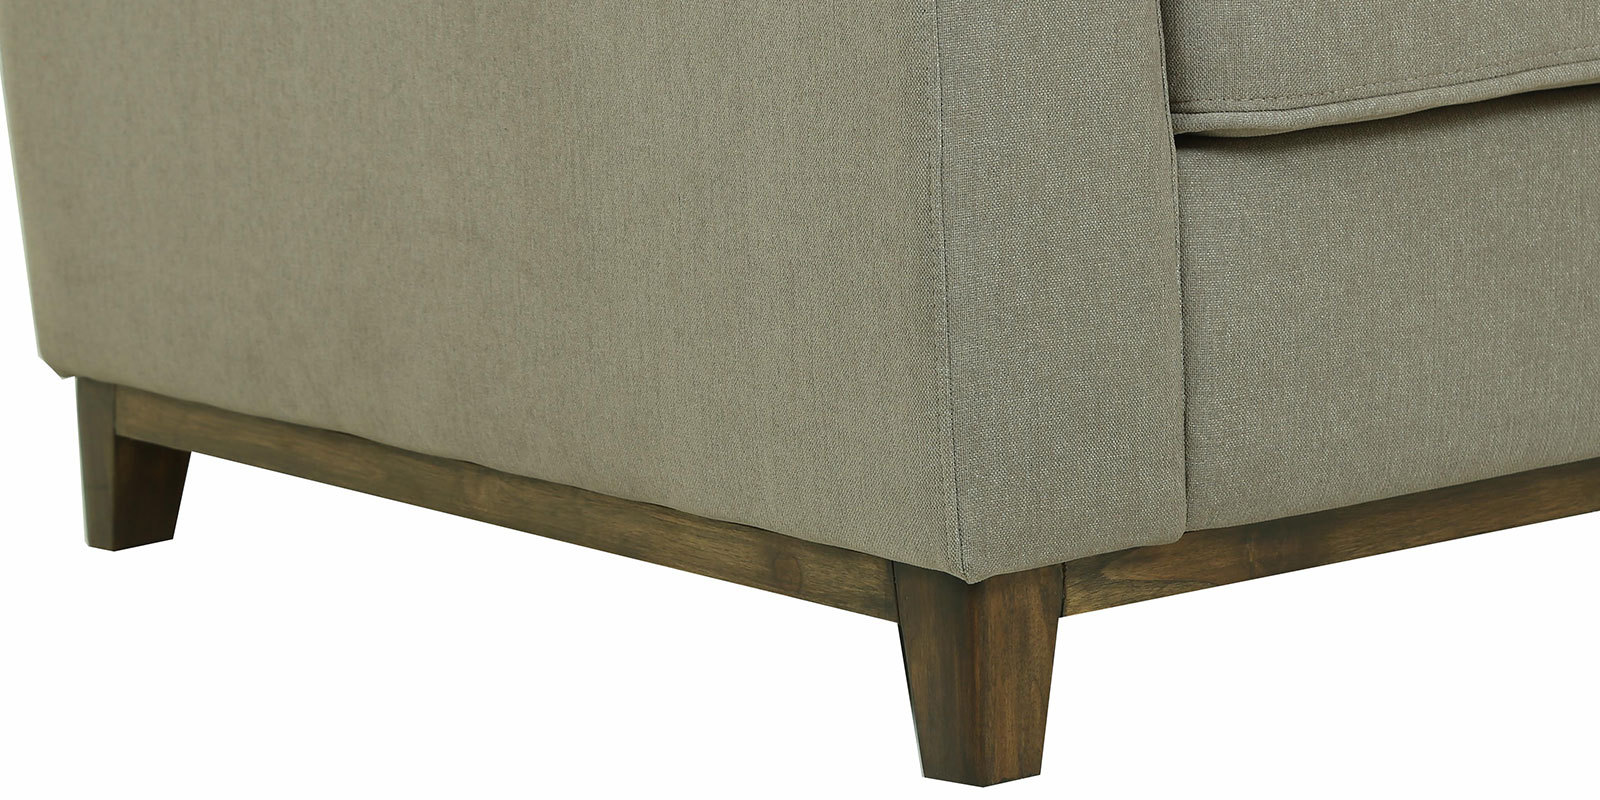Diego Three Seater Sofa in Sandy Colour by CasaCraft: (1, 14, 1599, 787)
